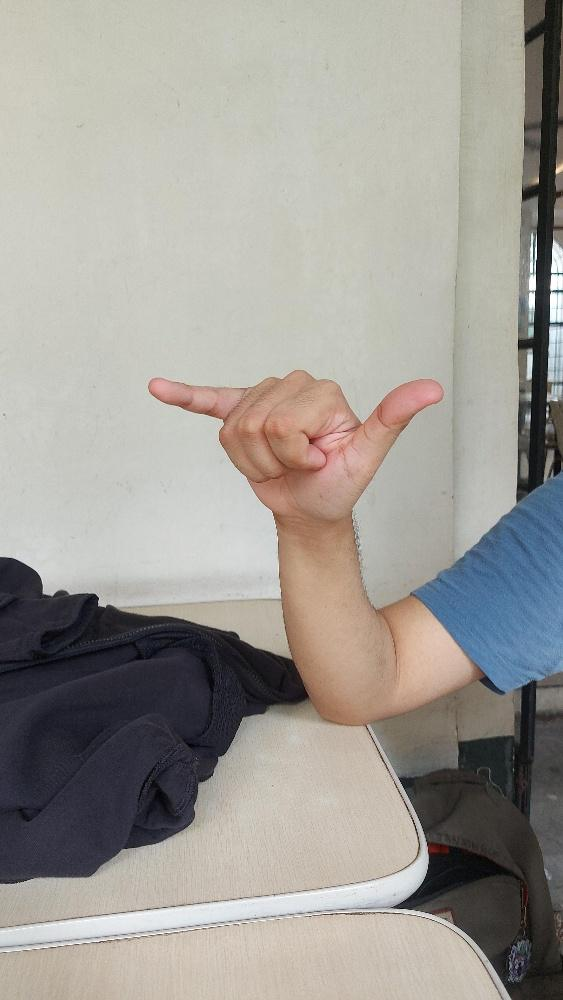y: (146, 368, 443, 523)
